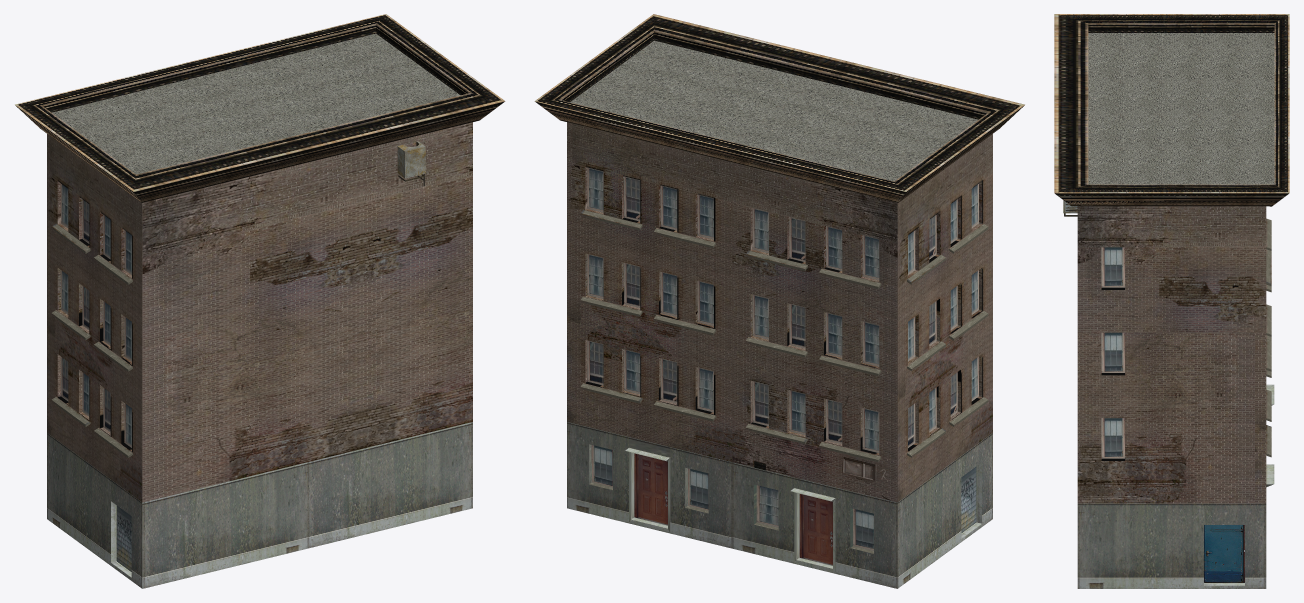
File: Building_19.fbx
3 views of the same model, side by side, from view 1: azimuth 30°, elevation 25°; view 2: azimuth 150°, elevation 25°; view 3: azimuth 270°, elevation 25° (orthographic).
Visible parts, largest first — view 1: Building_19; view 2: Building_19; view 3: Building_19.
Part boxes in pixels (<box>): Building_19: <box>15,14,505,588</box>; Building_19: <box>534,14,1024,588</box>; Building_19: <box>1054,14,1289,588</box>.
Size of the model in its own units: 1068 by 1127 by 593.
